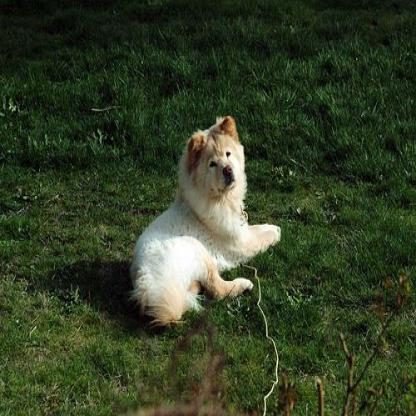chow: (127, 116, 279, 332)
